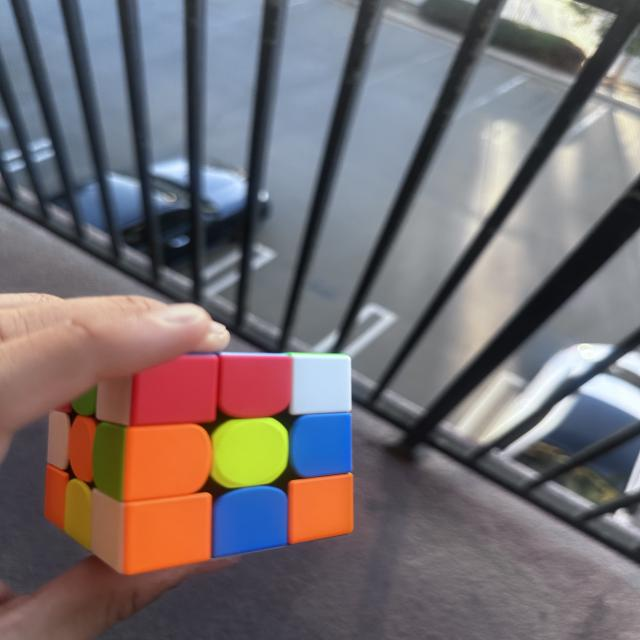sticker: (89, 486, 215, 575), (94, 420, 216, 504), (126, 353, 220, 429), (209, 416, 291, 489), (212, 485, 289, 558), (216, 352, 294, 420), (286, 472, 355, 547), (288, 412, 354, 482), (288, 352, 355, 417), (90, 422, 128, 502), (64, 477, 94, 551), (67, 414, 98, 484), (95, 377, 132, 427), (44, 464, 70, 534), (46, 409, 72, 471), (71, 384, 98, 417)
